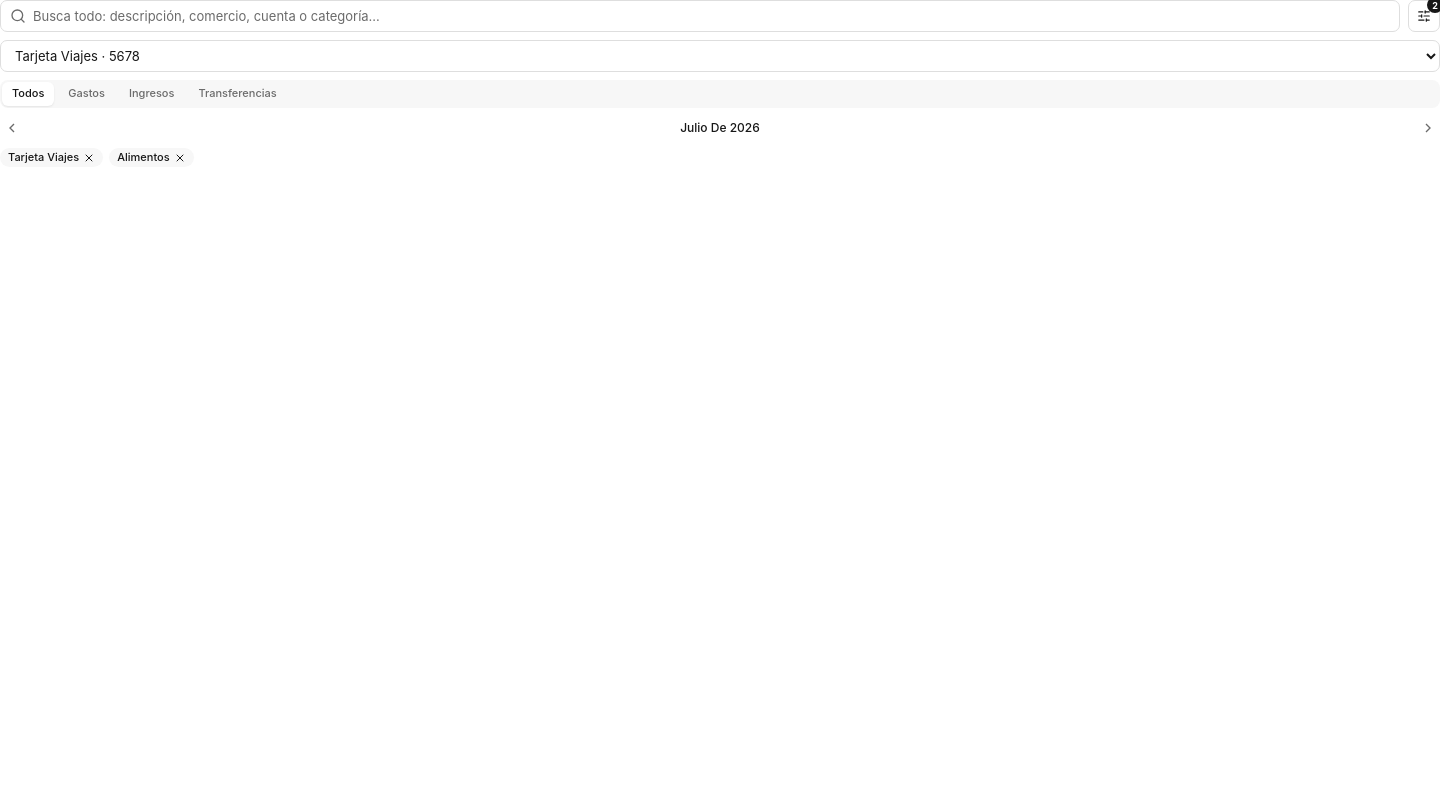
it: FilterBar › clears all advanced filters together
Click the button named "Abrir filtros": (1424, 16) [1408,0,1439,32]
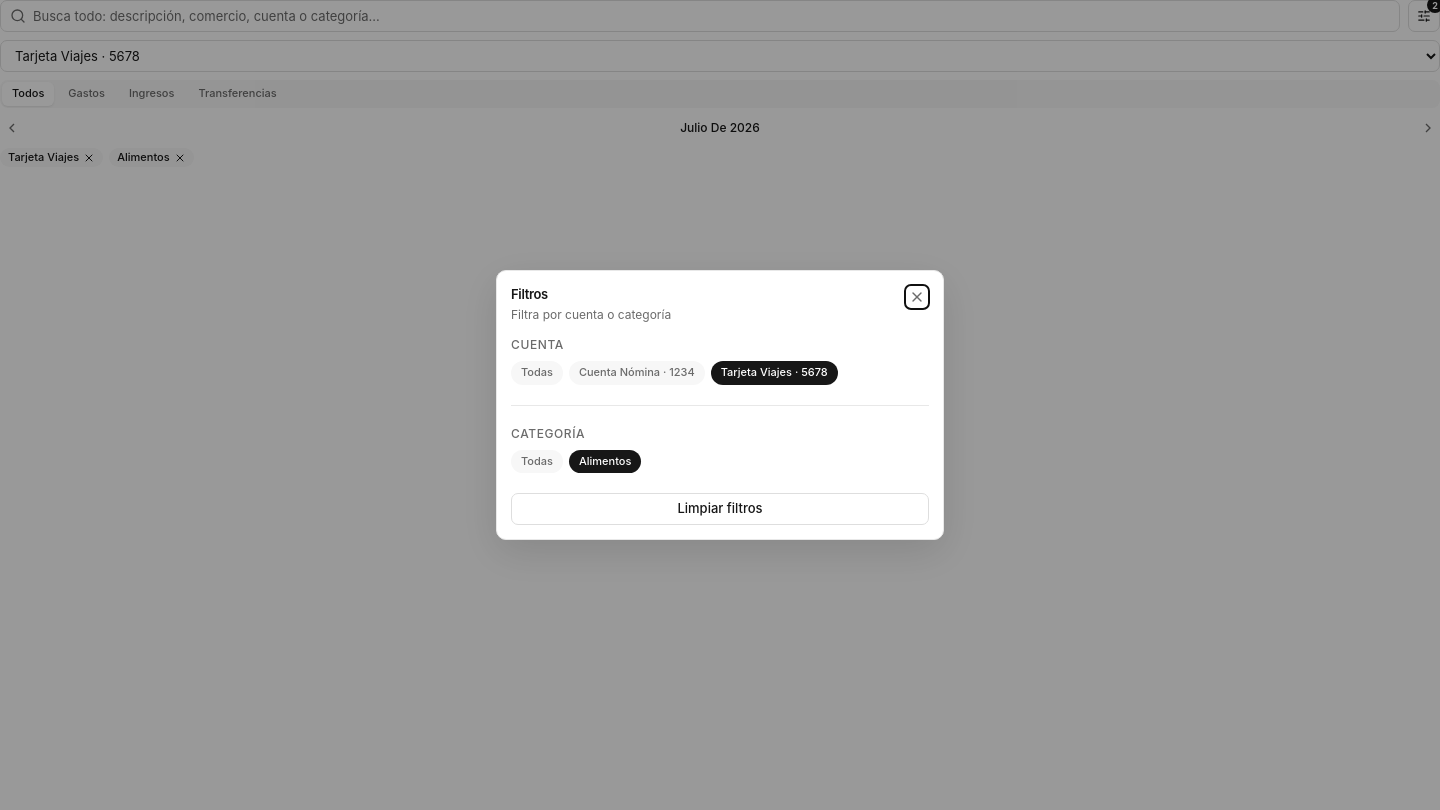
Click the button "Limpiar filtros": (720, 509) [511,493,929,525]
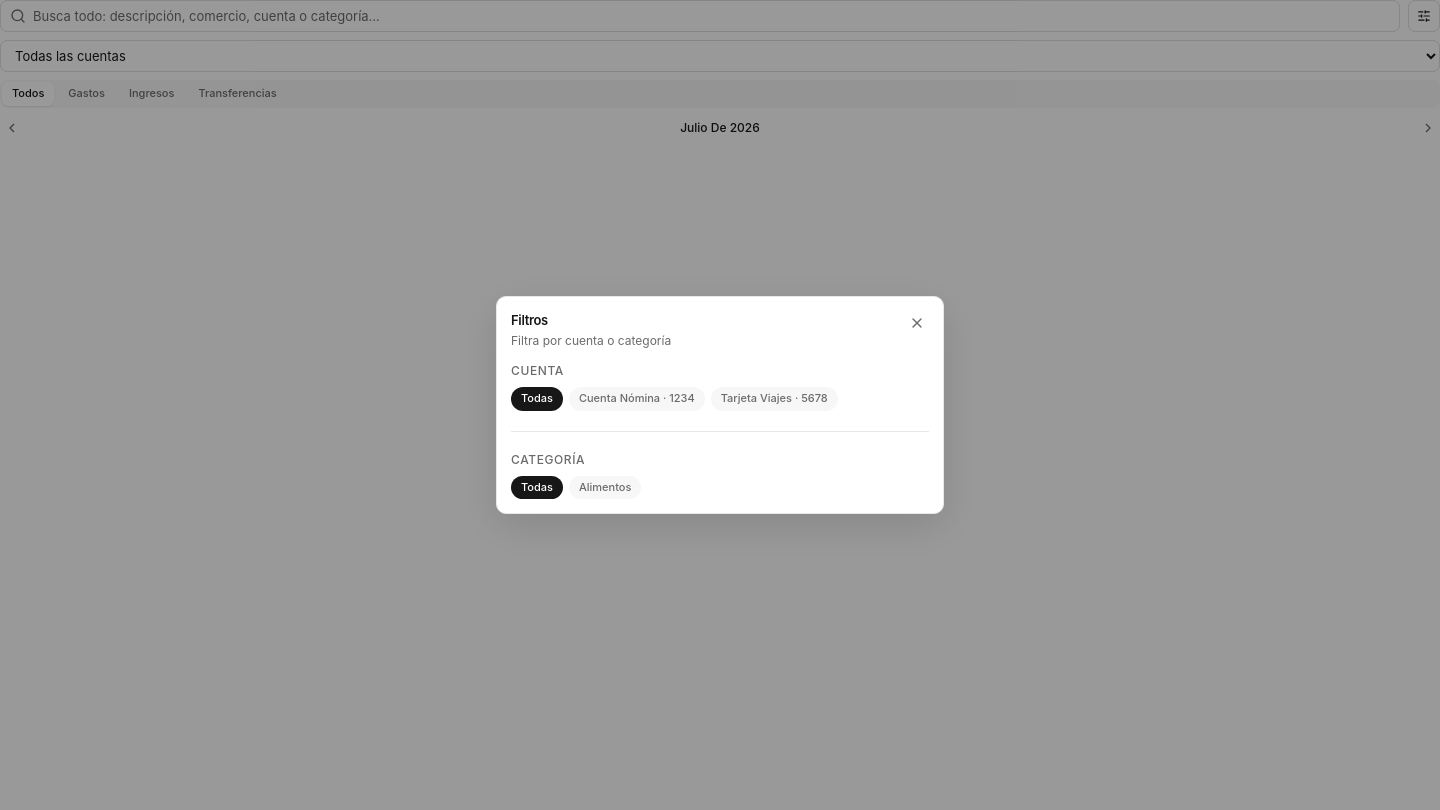
Expected: the button "Limpiar filtros" is gone
